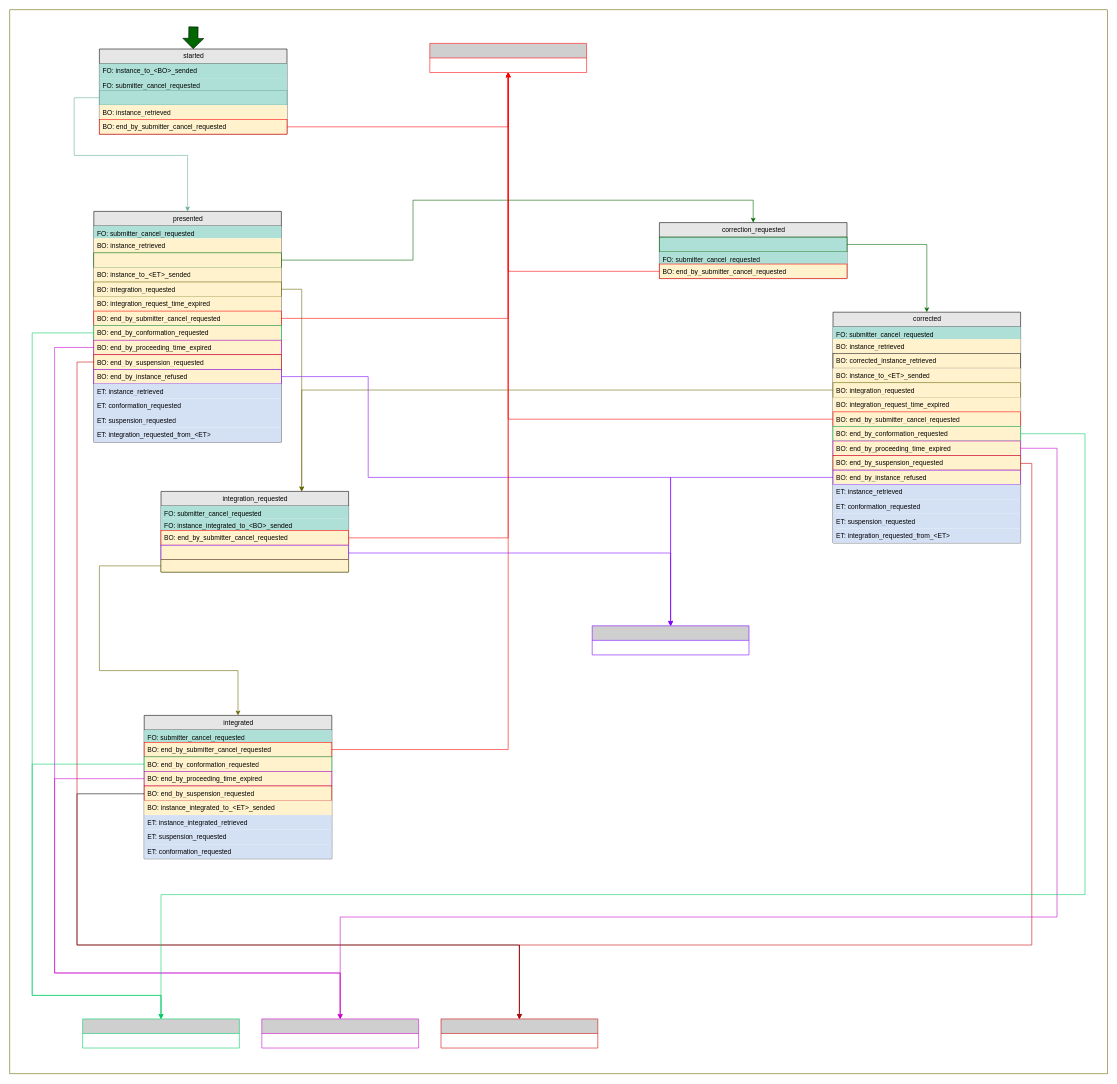
Image size: 1117x1084. Some labels were removed from this diagram. The shapes that lost their labels are listed below. From the top down, each one's centre as x and y in pixels, then its label:
At point 508,58: "ended_by_submitter_cancel_requested".
At point 193,97: "FO: receipt_sended".
At point 187,259: "BO: correction_request".
At point 753,244: "FO: corrected_instance_to_<BO>_sended".
At point 254,552: "BO: end_by_integration_request_time_expired".
At point 254,565: "BO: instance_integrated_retrieved".
At point 670,640: "refused".
At point 160,1033: "ended_by_conformation_requested".
At point 340,1033: "ended_by_proceeding_time_expired".
At point 519,1033: "ended_by_suspension_requested".
